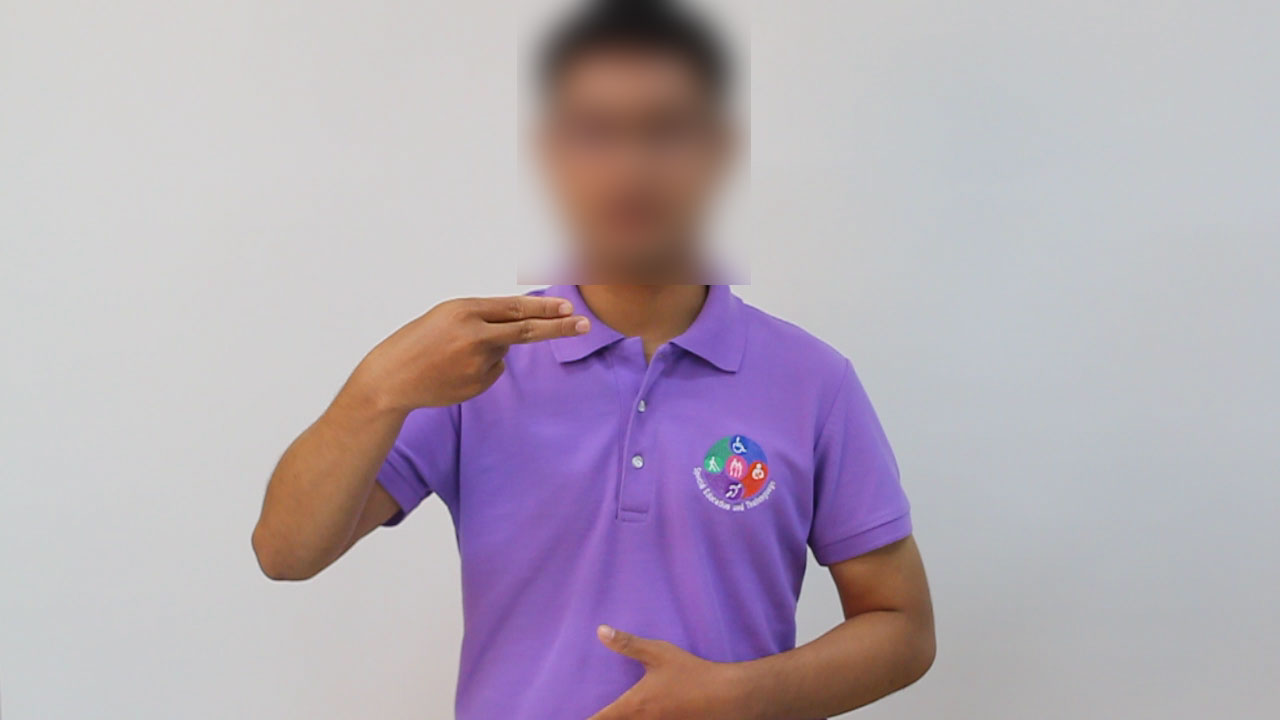hor: (345, 279, 600, 415)
